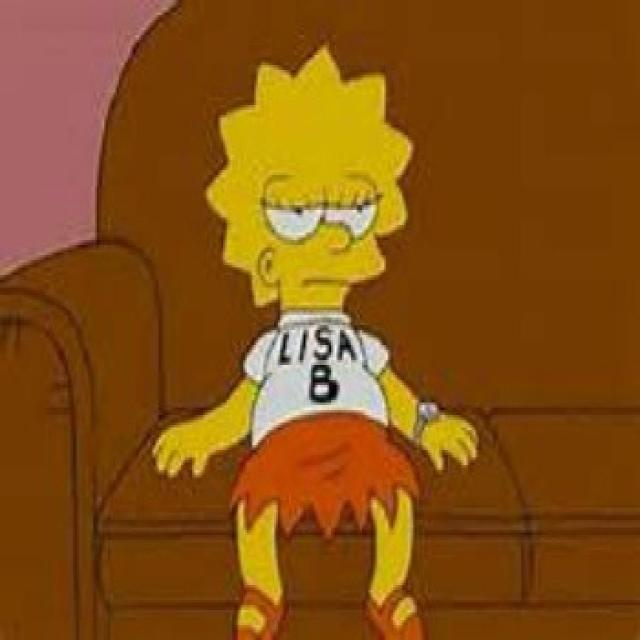Lisa Simpson: (200, 40, 414, 320)
